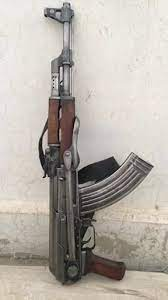gun: (37, 2, 154, 285)
